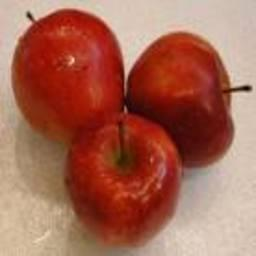apple: (66, 115, 185, 250), (11, 6, 124, 144), (127, 30, 235, 165)
